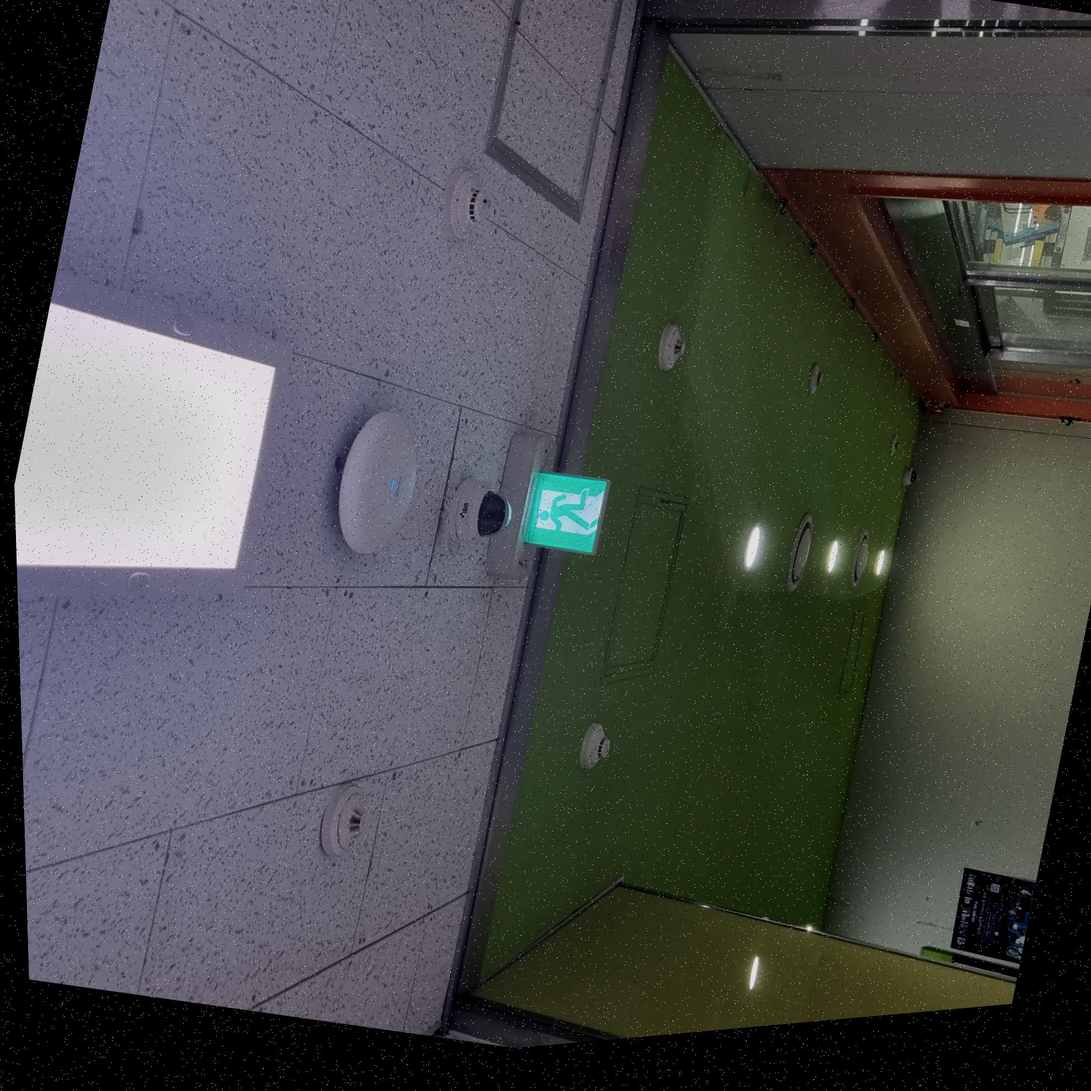emergency_exit: (518, 469, 610, 557)
